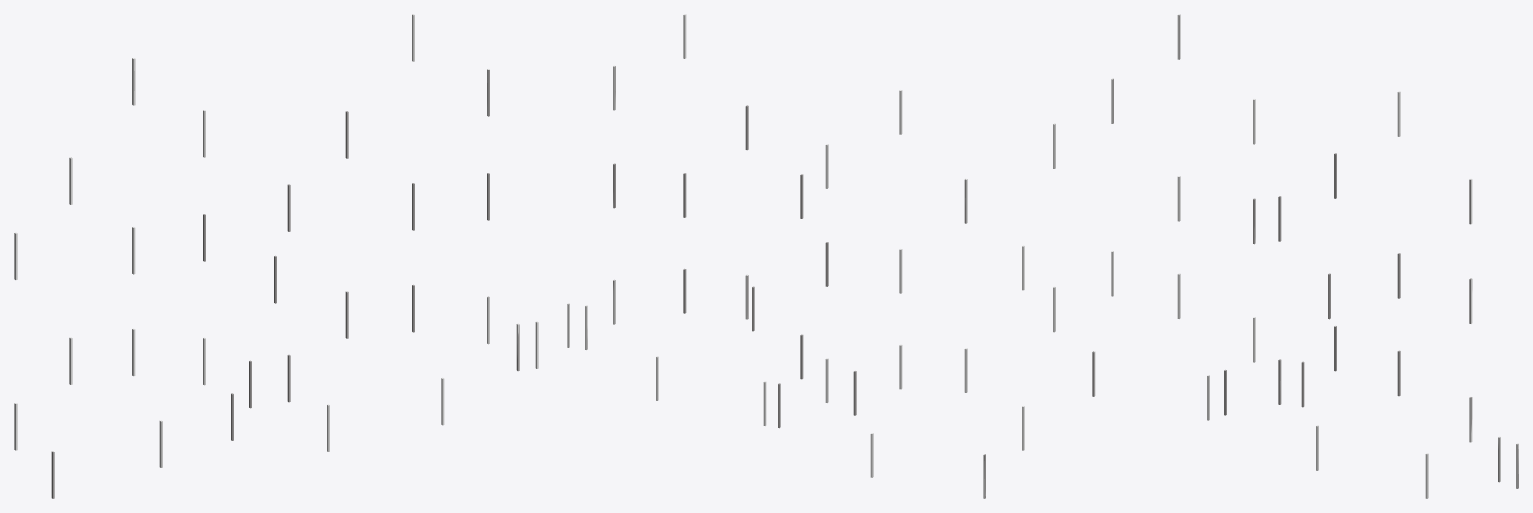
Rendered from wind.obj.
The picture shows the model from 3 angles, left to right: view 1: azimuth 30°, elevation 25°; view 2: azimuth 150°, elevation 25°; view 3: azimuth 330°, elevation 25°; orthographic projection. The views are drawn at different scales.
Size of the model in its own units: 20.17 by 15.95 by 2.36.
Materials: 1 (1 with a texture image).
